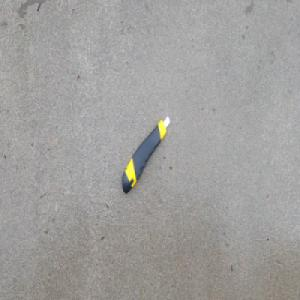Cutter: (121, 113, 171, 196)
